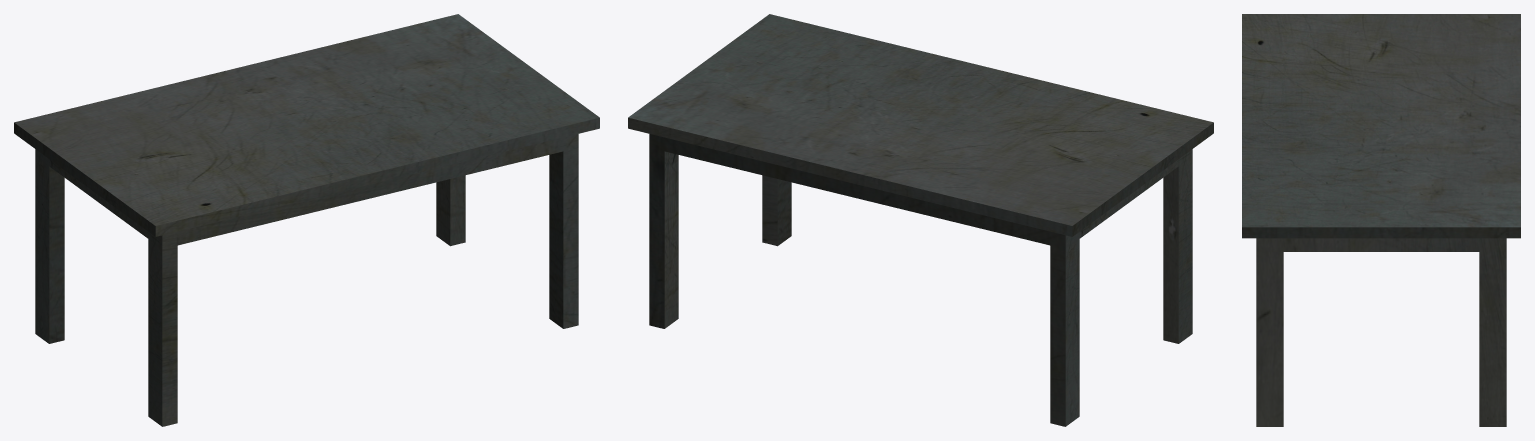
Rendered from interrogation_table.FBX.
The picture shows the model from 3 angles, left to right: view 1: azimuth 30°, elevation 25°; view 2: azimuth 150°, elevation 25°; view 3: azimuth 270°, elevation 25°; orthographic projection.
Visible parts, largest first — view 1: interrogation_table; view 2: interrogation_table; view 3: interrogation_table.
Boxes of the visible parts, <box> form: interrogation_table: <box>14,14,599,426</box>; interrogation_table: <box>628,14,1213,426</box>; interrogation_table: <box>1242,14,1520,426</box>.
Bounding box in the file's own units: 154 × 69.23 × 84.77.
